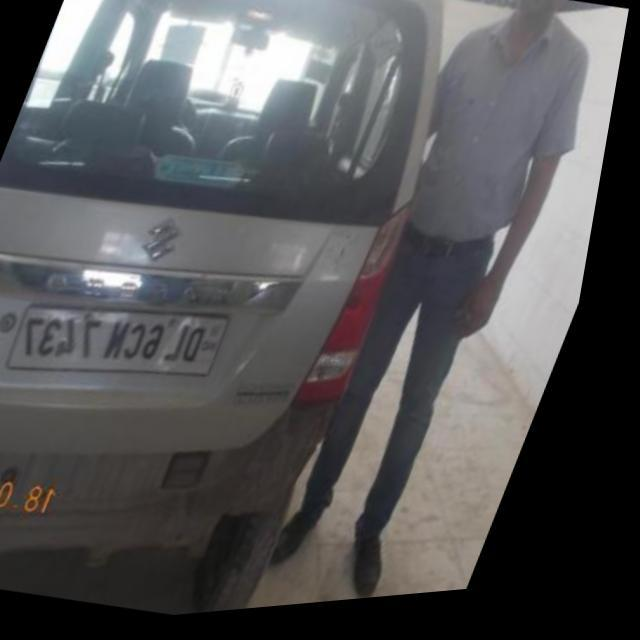rub: (0, 415, 354, 561)
